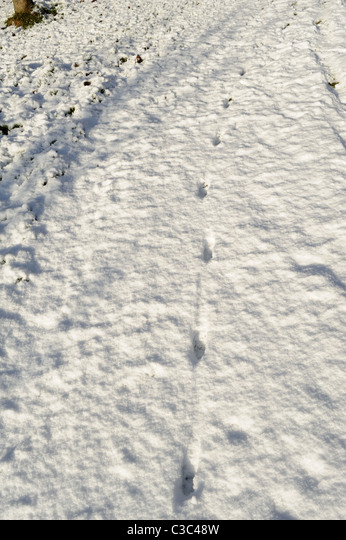fox: (179, 460, 200, 505), (189, 334, 210, 366)
